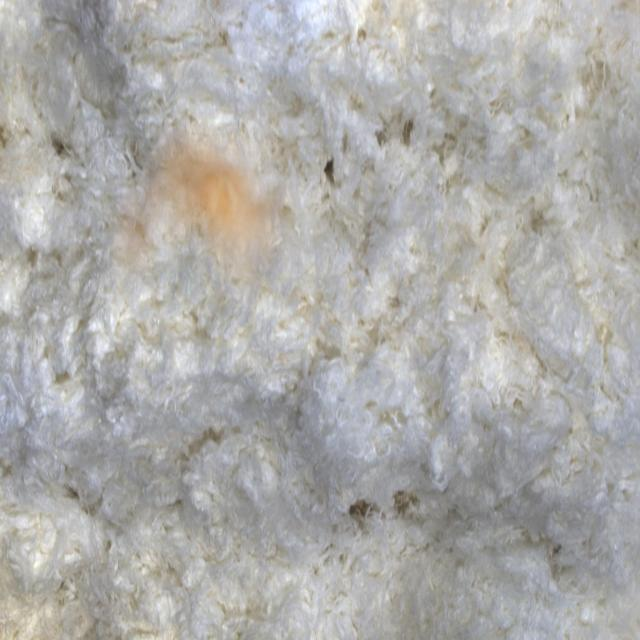dust: (110, 122, 302, 307)
